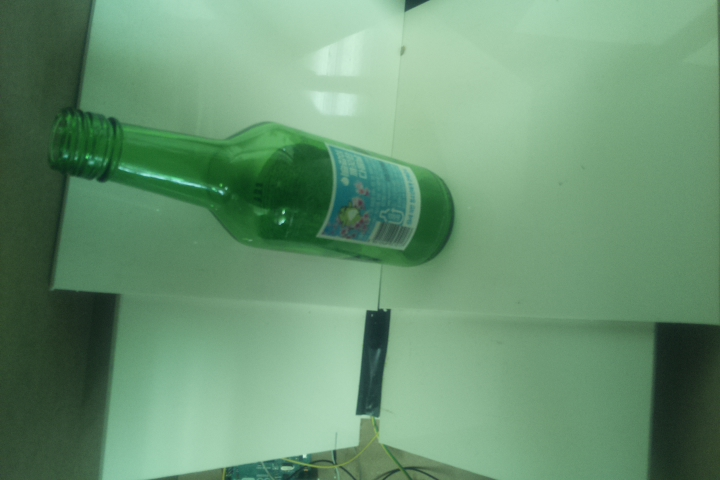soju: (47, 103, 455, 268)
